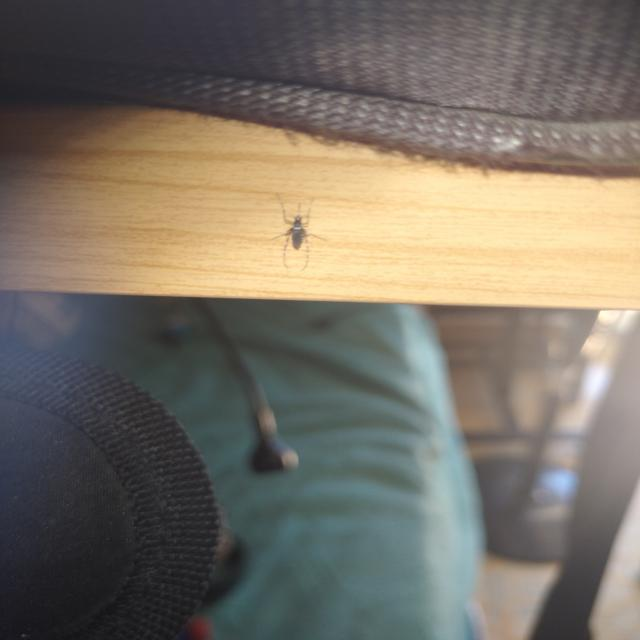albopictus: (255, 188, 337, 272)
